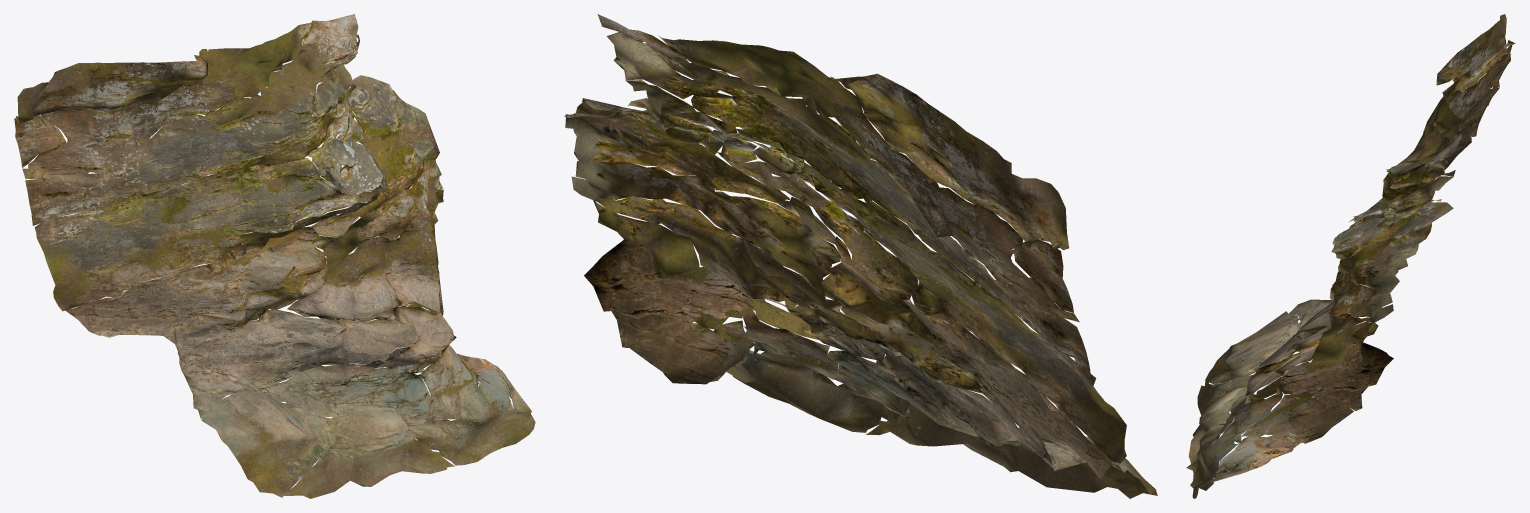
The model's file is rock_face_02_LOD2.fbx.
3 renders of one model, left to right at view 1: azimuth 30°, elevation 25°; view 2: azimuth 150°, elevation 25°; view 3: azimuth 270°, elevation 25°, orthographic. The views are drawn at different scales.
Parts seen in each view (by area): view 1: rock_face_02.001; view 2: rock_face_02.001; view 3: rock_face_02.001.
Boxes of the visible parts, box(x1,y1,x2,y2) form: rock_face_02.001: box(14, 14, 535, 498); rock_face_02.001: box(564, 14, 1157, 498); rock_face_02.001: box(1186, 14, 1515, 498).
Bounding box in the file's own units: 2.72 × 2.48 × 2.14.
Materials: 1 (1 with a texture image).
